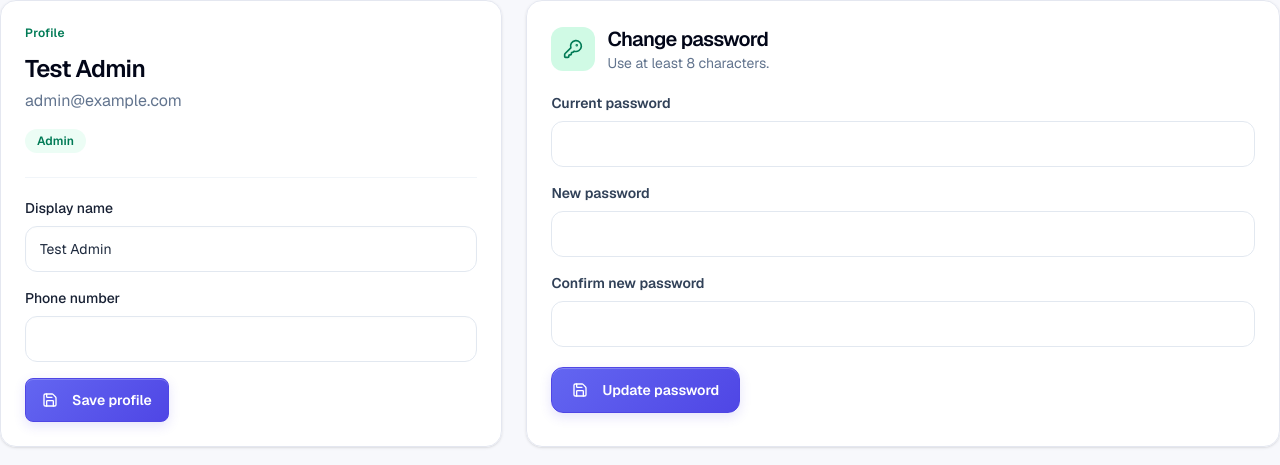
Scenario: account and provider management › saves profile fields through the boolean-returning account endpoint
The width and height of the screenshot is (1280, 465).
Replace the text in the field labelled "Display name" with "Updated Admin" at (251, 249), box [25,226,477,272]
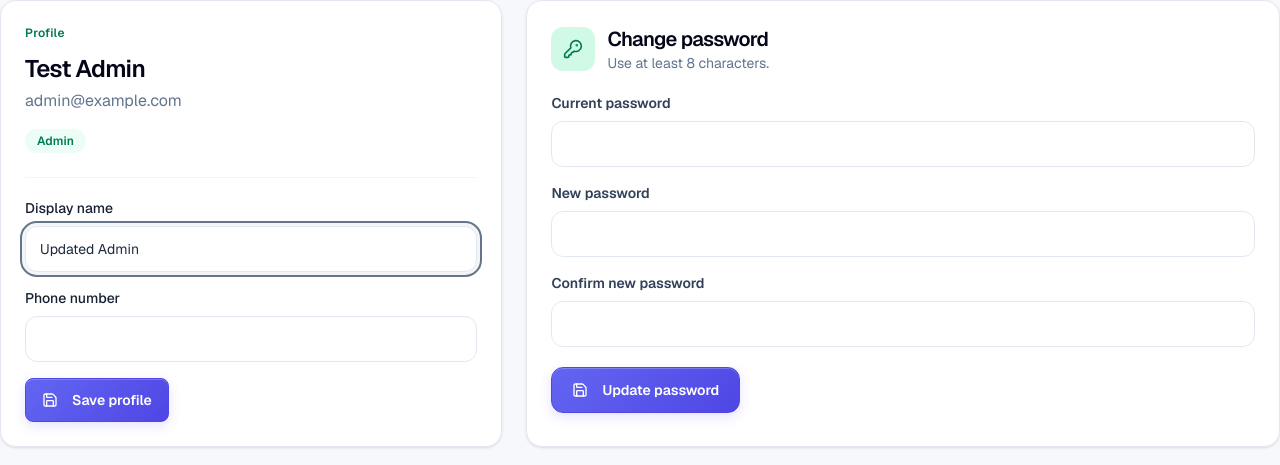
Type "01012345678" into the field labelled "Phone number" at (251, 339), box [25,316,477,362]
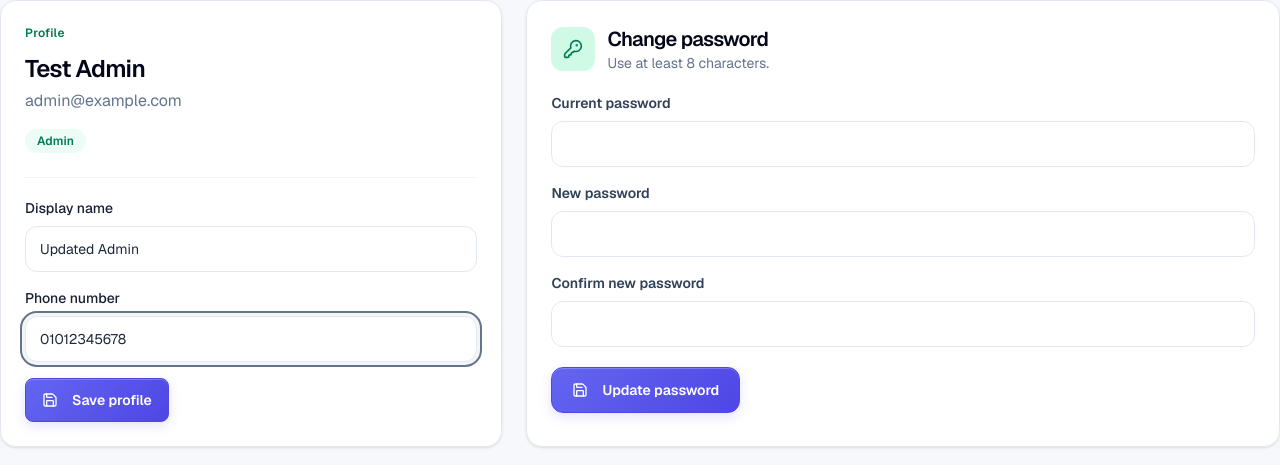
Click the button "Save profile" at (97, 400), box [25,378,169,422]
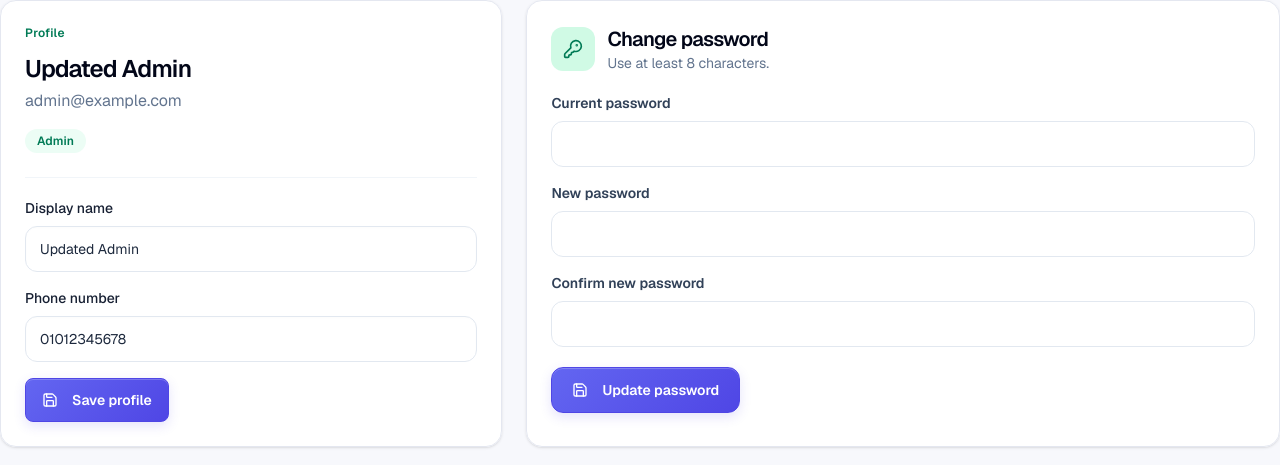
Result: the heading "Updated Admin" is shown at [25,53,191,84]
